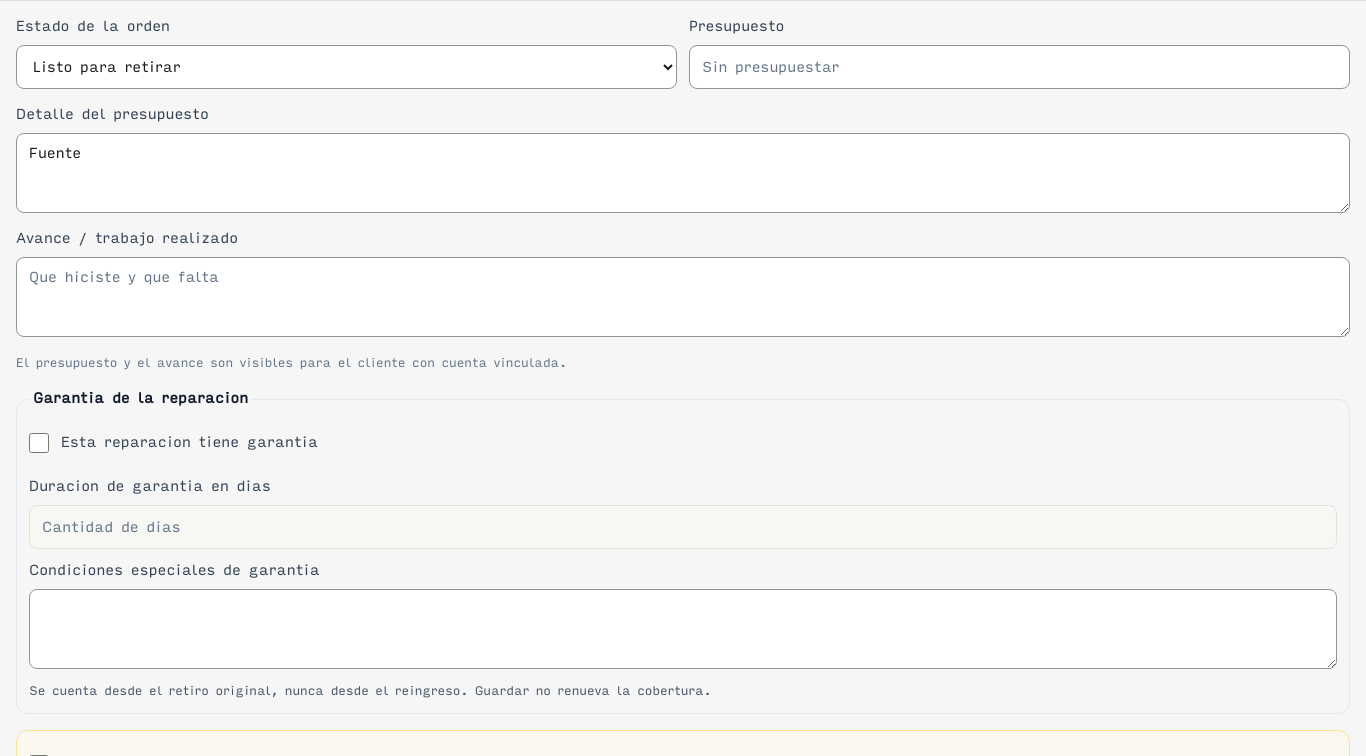
editor unico de reparaciones › conserva la autorizacion de entrega del flujo listo para retirar aunque el importe sea cero
The image size is (1366, 756).
Select "Retirado por cliente" in the dropdown labelled "Estado de la orden" at (346, 67), box [16, 45, 677, 89]
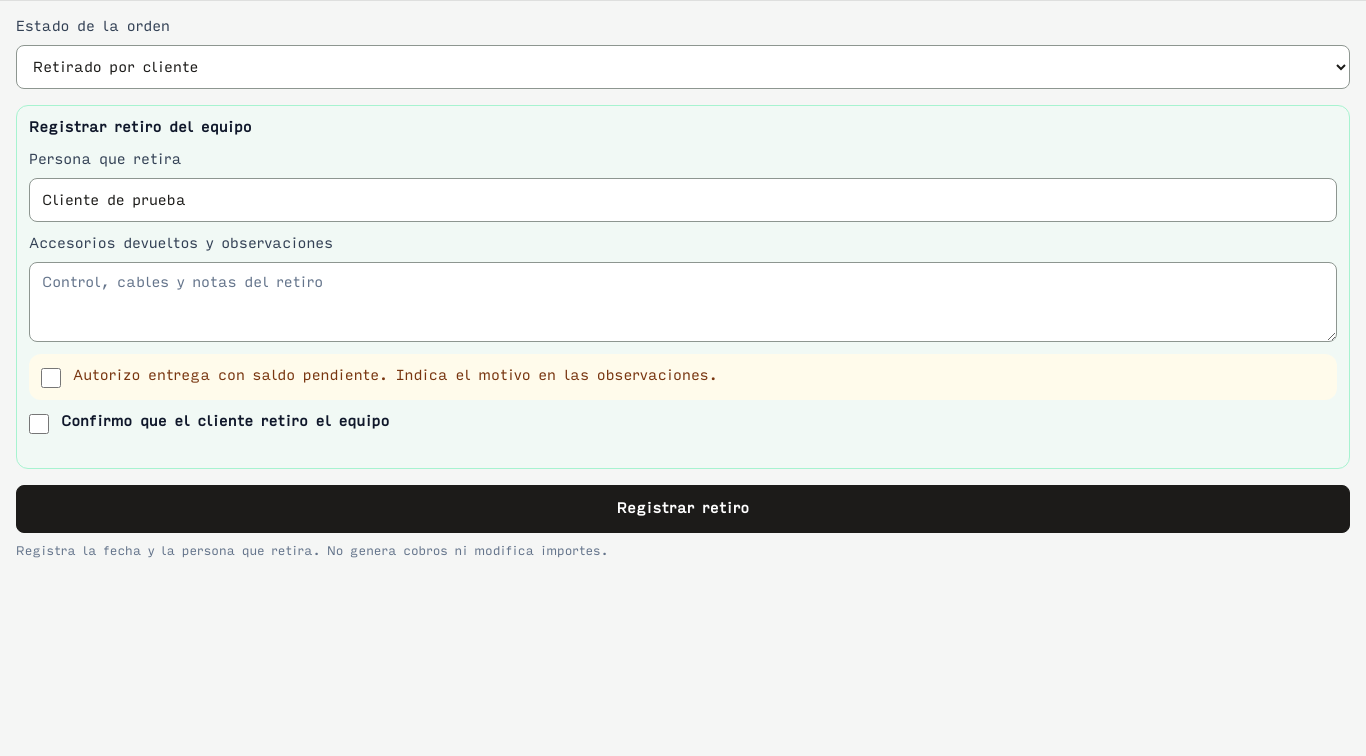
Now the checkbox labelled "Autorizo entrega con saldo pendiente" is shown, box [41, 368, 61, 388]
